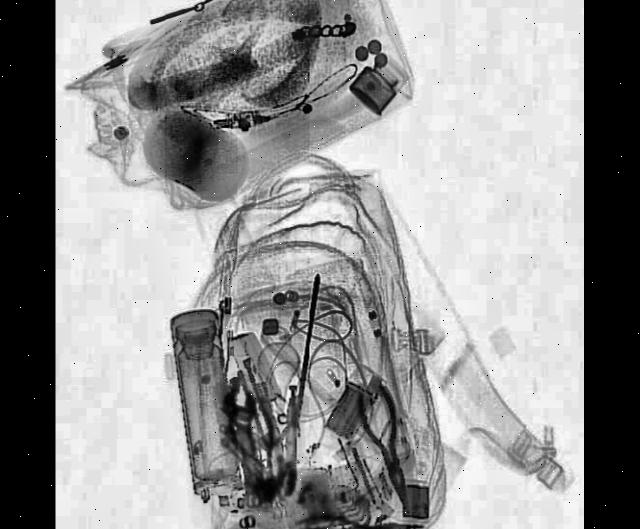Pliers: (352, 376, 420, 515), (289, 508, 407, 529)
